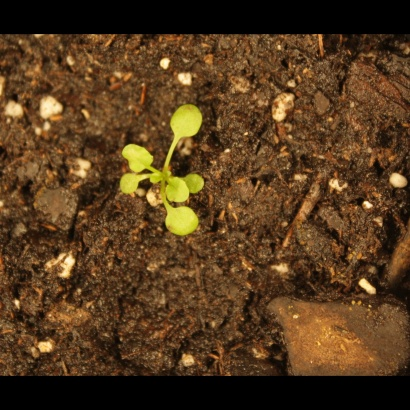leaf: (168, 101, 204, 140), (162, 205, 202, 239), (119, 141, 157, 174), (164, 175, 192, 205), (181, 170, 208, 197), (116, 172, 141, 197)
